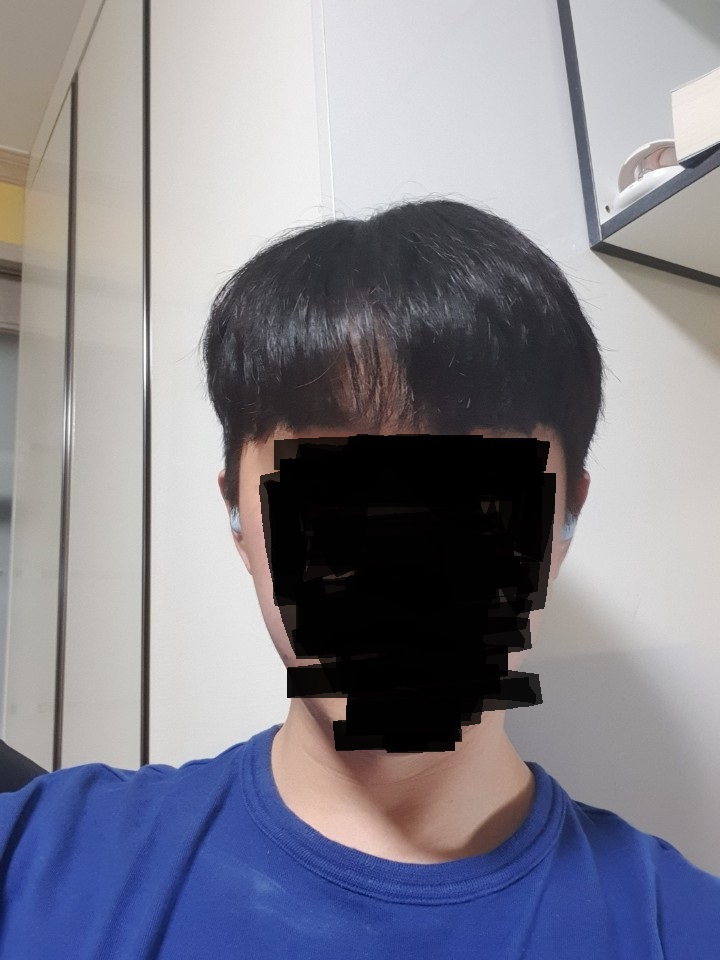earphone: (551, 465, 594, 576), (218, 472, 252, 575)
